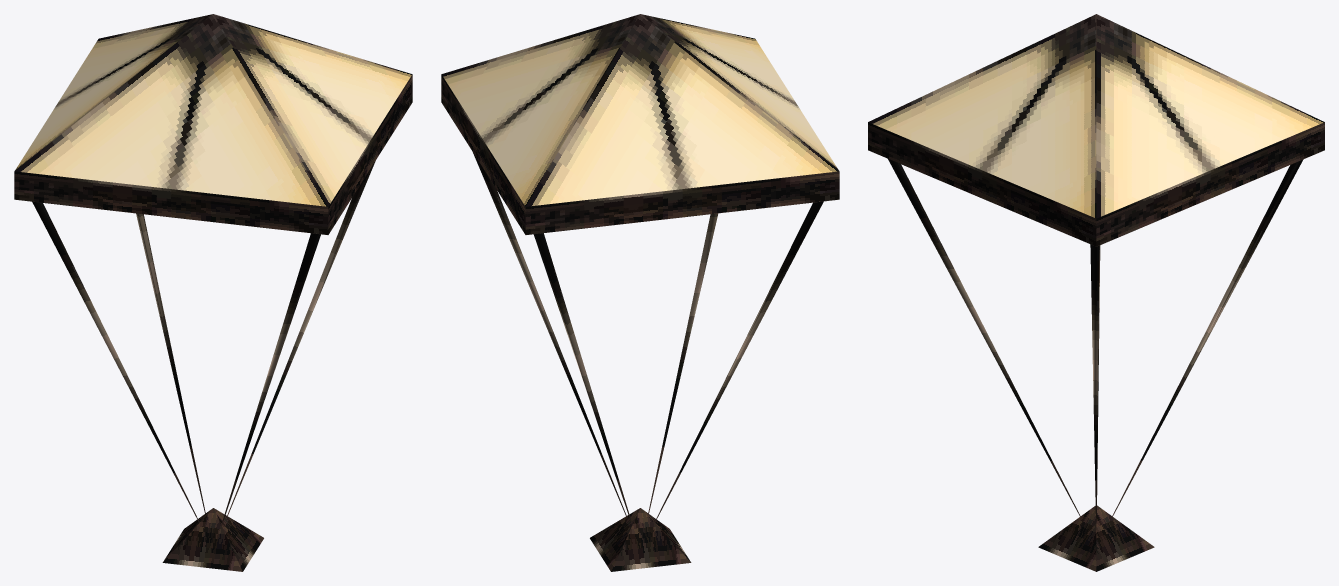
File: hanginglight.fbx
The picture shows the model from 3 angles, left to right: view 1: azimuth 30°, elevation 25°; view 2: azimuth 150°, elevation 25°; view 3: azimuth 270°, elevation 25°; orthographic projection.
Visible parts, largest first — view 1: mesh_0; view 2: mesh_0; view 3: mesh_0.
Boxes of the visible parts, x1,y1,x2,y2 form: mesh_0: (14, 14, 412, 571); mesh_0: (441, 14, 839, 571); mesh_0: (868, 14, 1324, 571).
Size of the model in its own units: 63.06 by 81.22 by 63.06.
1 material, 1 textured.
